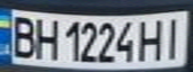1: (60, 17, 81, 62)
2: (78, 18, 100, 64), (97, 18, 118, 64)
4: (115, 18, 139, 63)
B: (6, 12, 39, 60)
H: (136, 16, 166, 62), (30, 15, 60, 61)
I: (157, 14, 187, 61)
